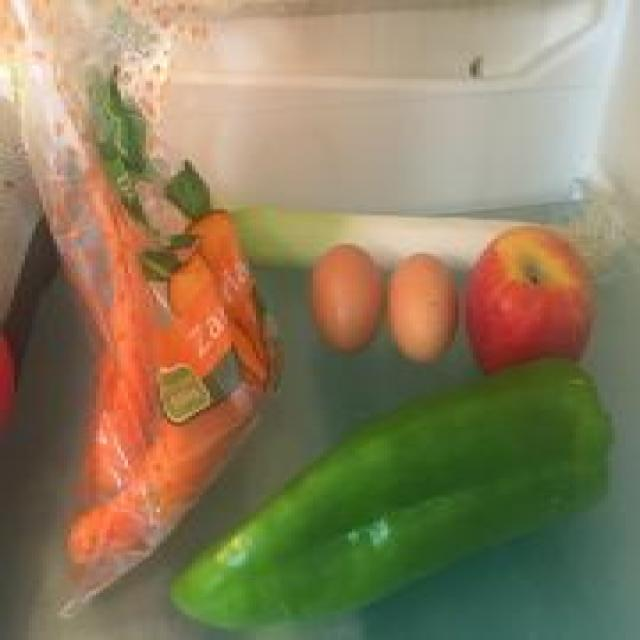apple: (468, 223, 588, 362)
bell_pepper: (171, 356, 615, 630)
carrot: (71, 141, 281, 574)
egg: (311, 243, 386, 356), (388, 253, 458, 368)
